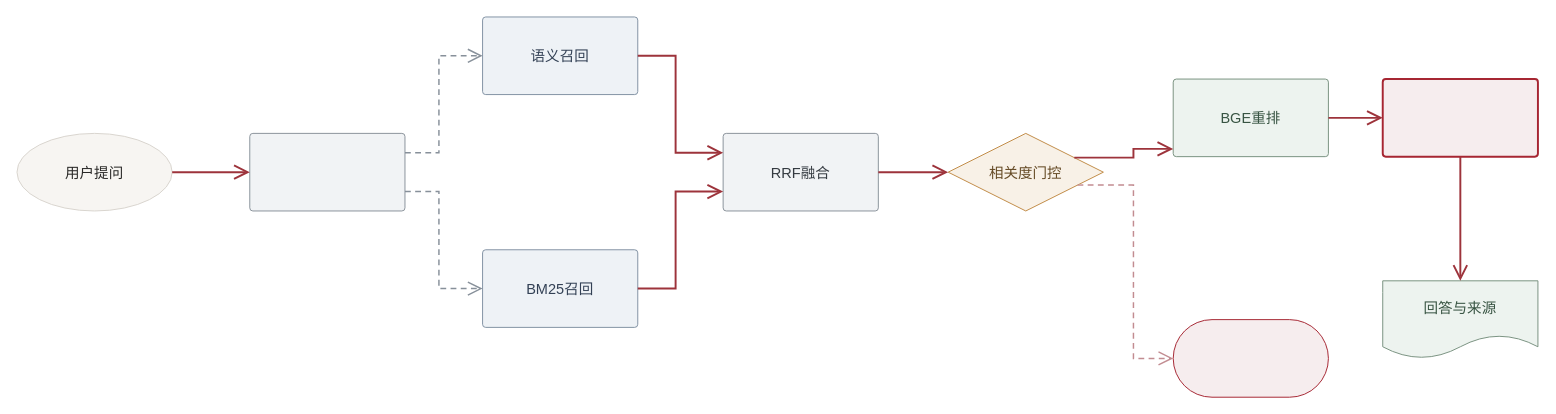
This 1556x414 diagram has some shape labels left out. The shapes that lost their labels are listed below. From the top down, each one's centre as x and y in pixels, then its label:
(1459,117): 场景化生成
(327,171): 别名扩展
(1250,358): 拒答与改问
